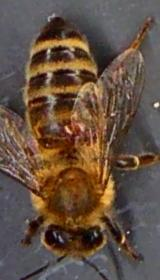varroa_mite: (58, 119, 90, 136)
